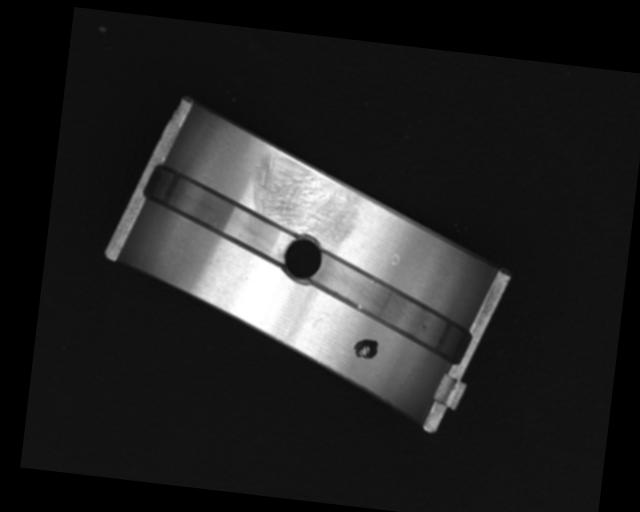blot: (350, 336, 380, 363)
bruise: (390, 252, 400, 268)
gap: (303, 250, 474, 359), (139, 165, 300, 262)
hole: (279, 233, 326, 285)
scratch: (245, 150, 361, 245)
